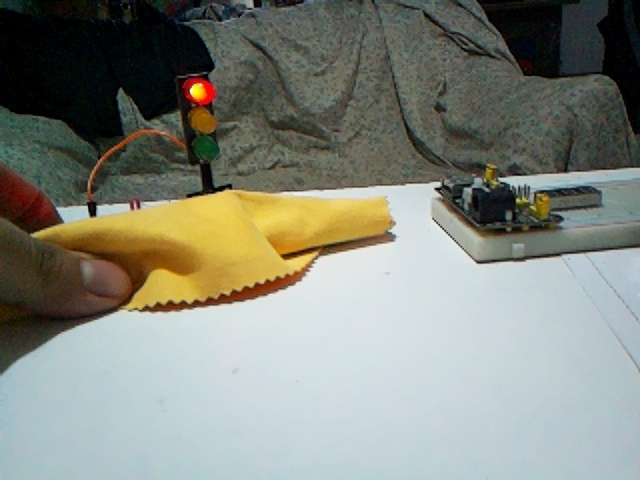traffic_light_red: (176, 71, 220, 165)
